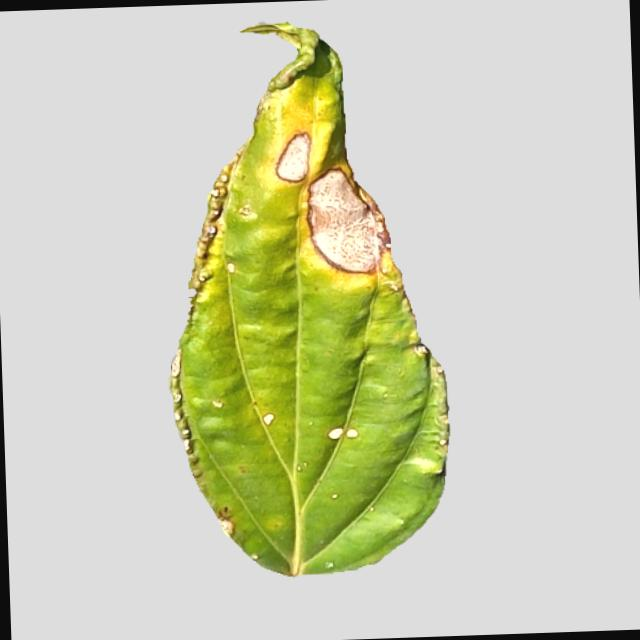leaf-blight: (146, 14, 460, 575)
